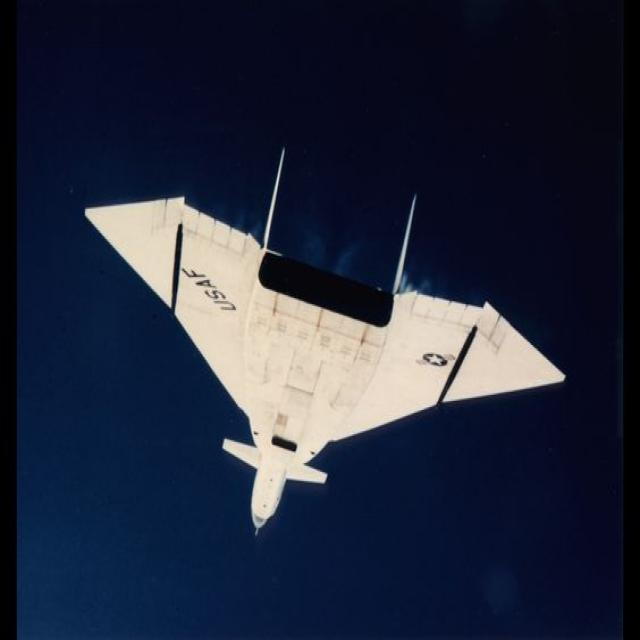MIL_Plane: (84, 145, 565, 537)
